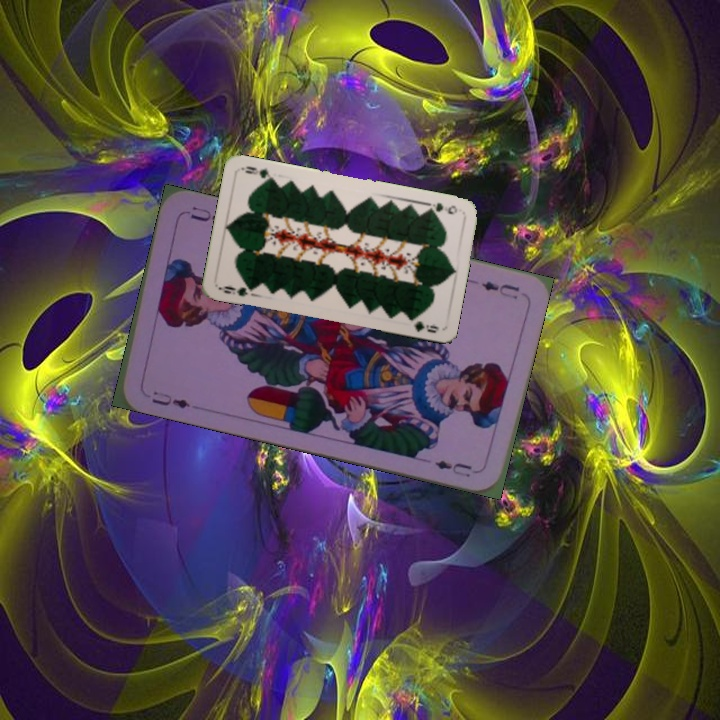EU: (477, 277, 522, 302), (147, 387, 193, 411)
G9: (216, 281, 257, 299), (423, 199, 460, 217)
